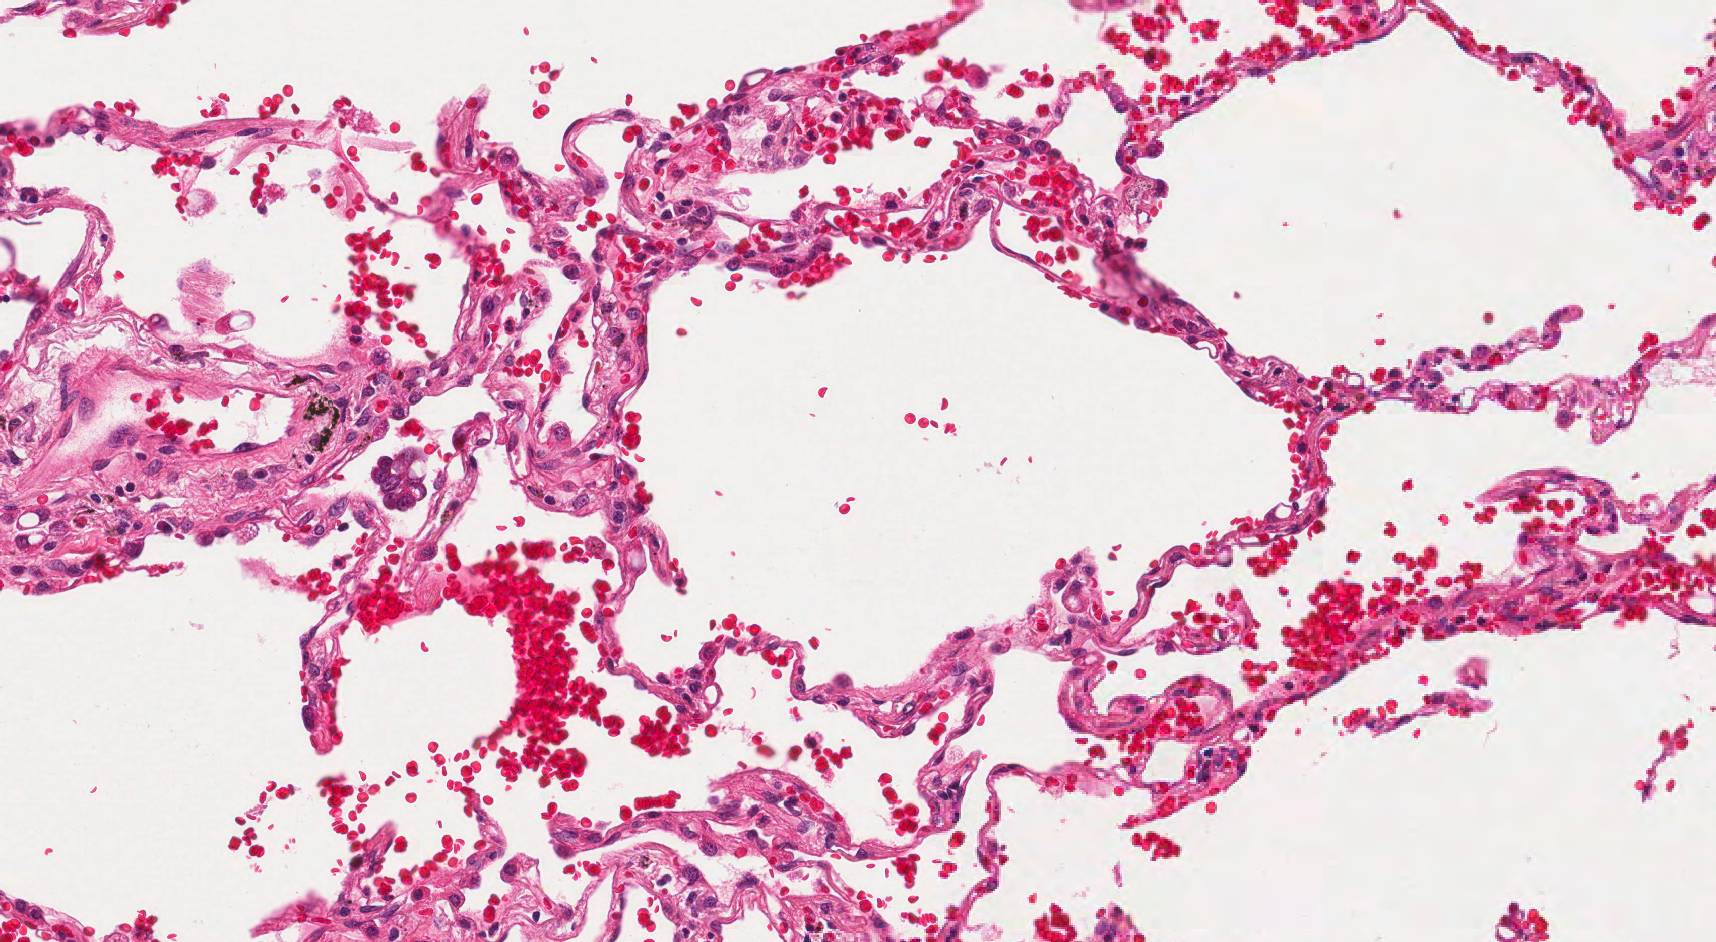stas: (371, 448, 431, 512)
